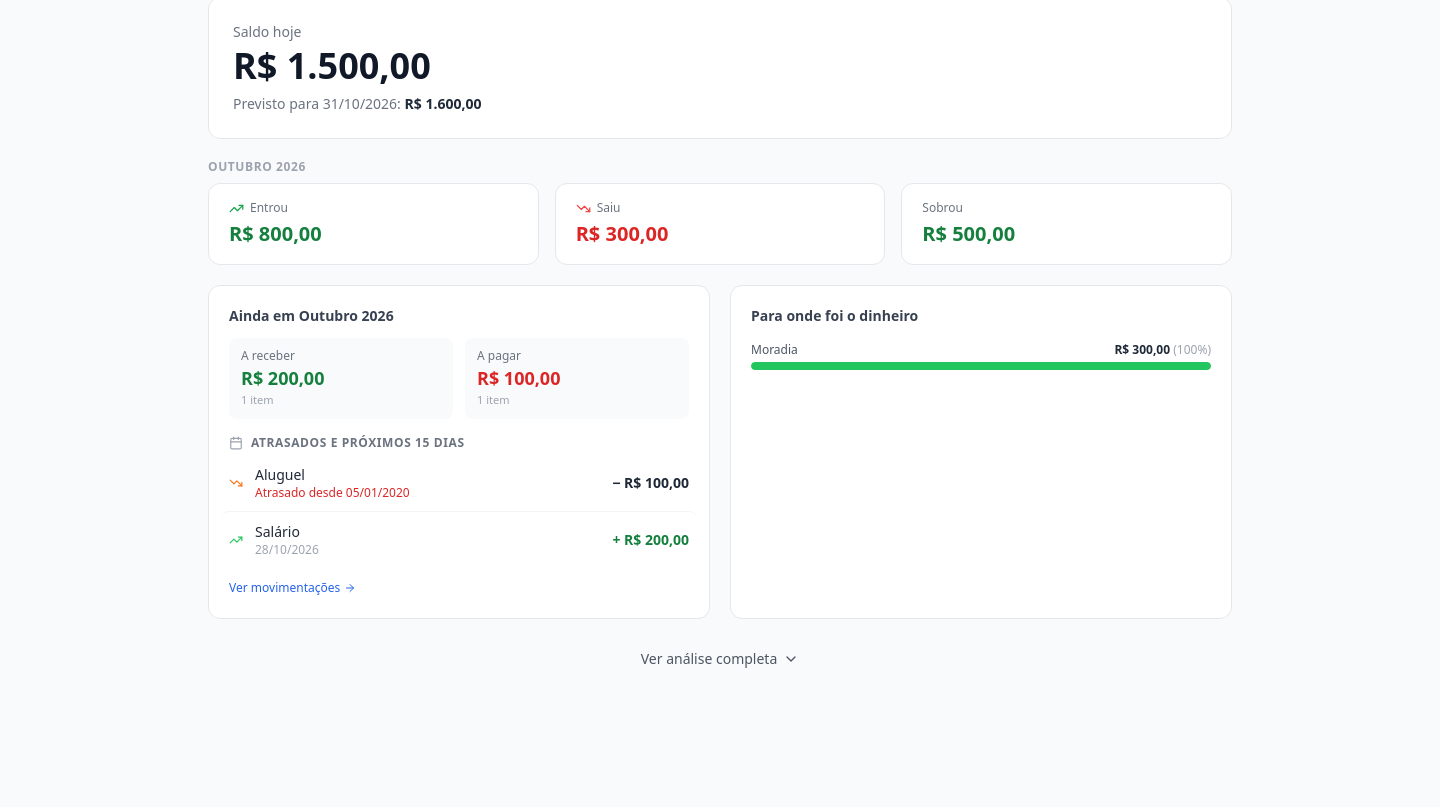
it: Início › análise completa começa recolhida e abre sob demanda
This screenshot has width=1440, height=807.
Click the button "Ver análise completa".
click(720, 658)  # box [208, 638, 1232, 678]
(page scrolled)
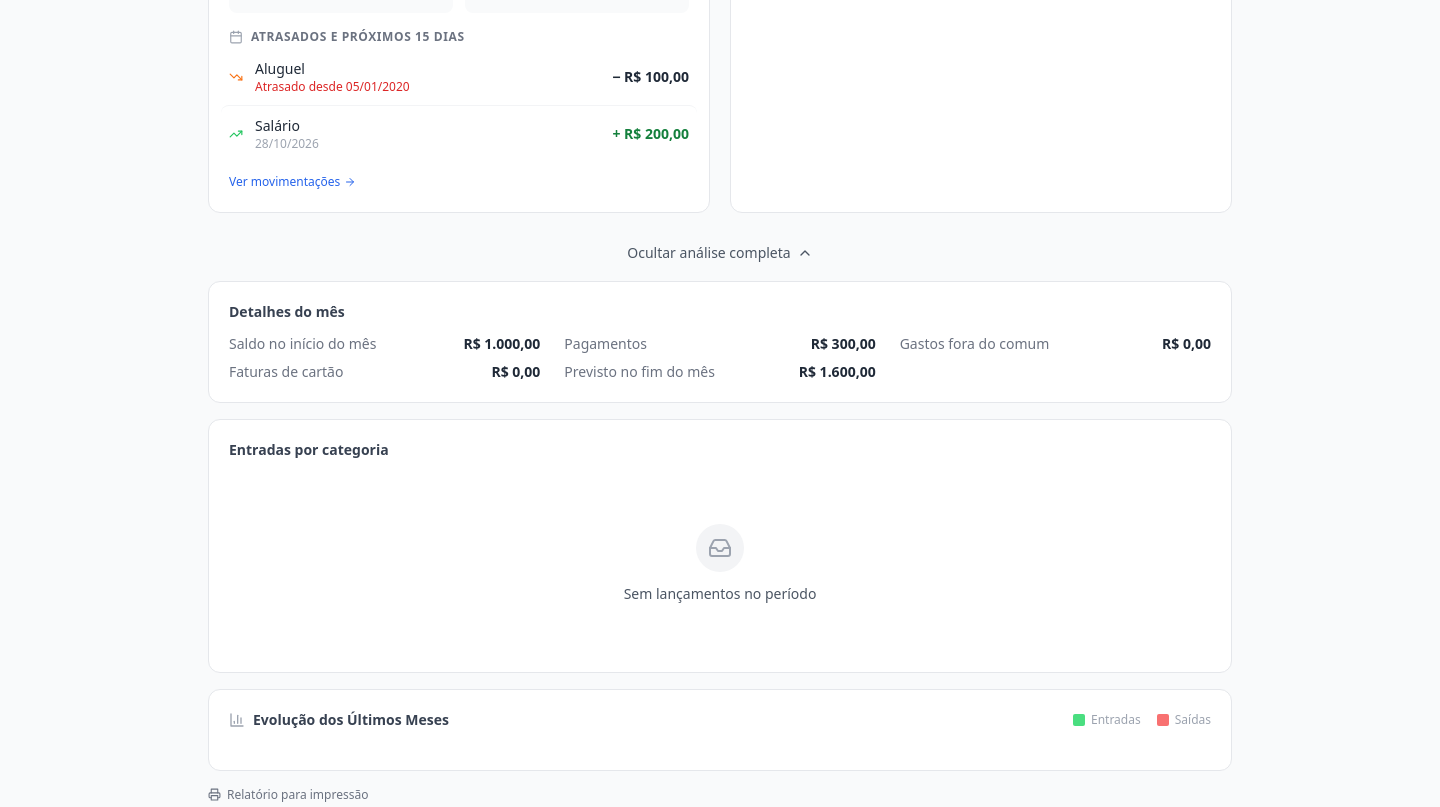
Result: the text "Saldo no início do mês" is shown at [229, 334, 376, 354]
Result: the link "Relatório para impressão" is shown at [208, 786, 368, 802]
